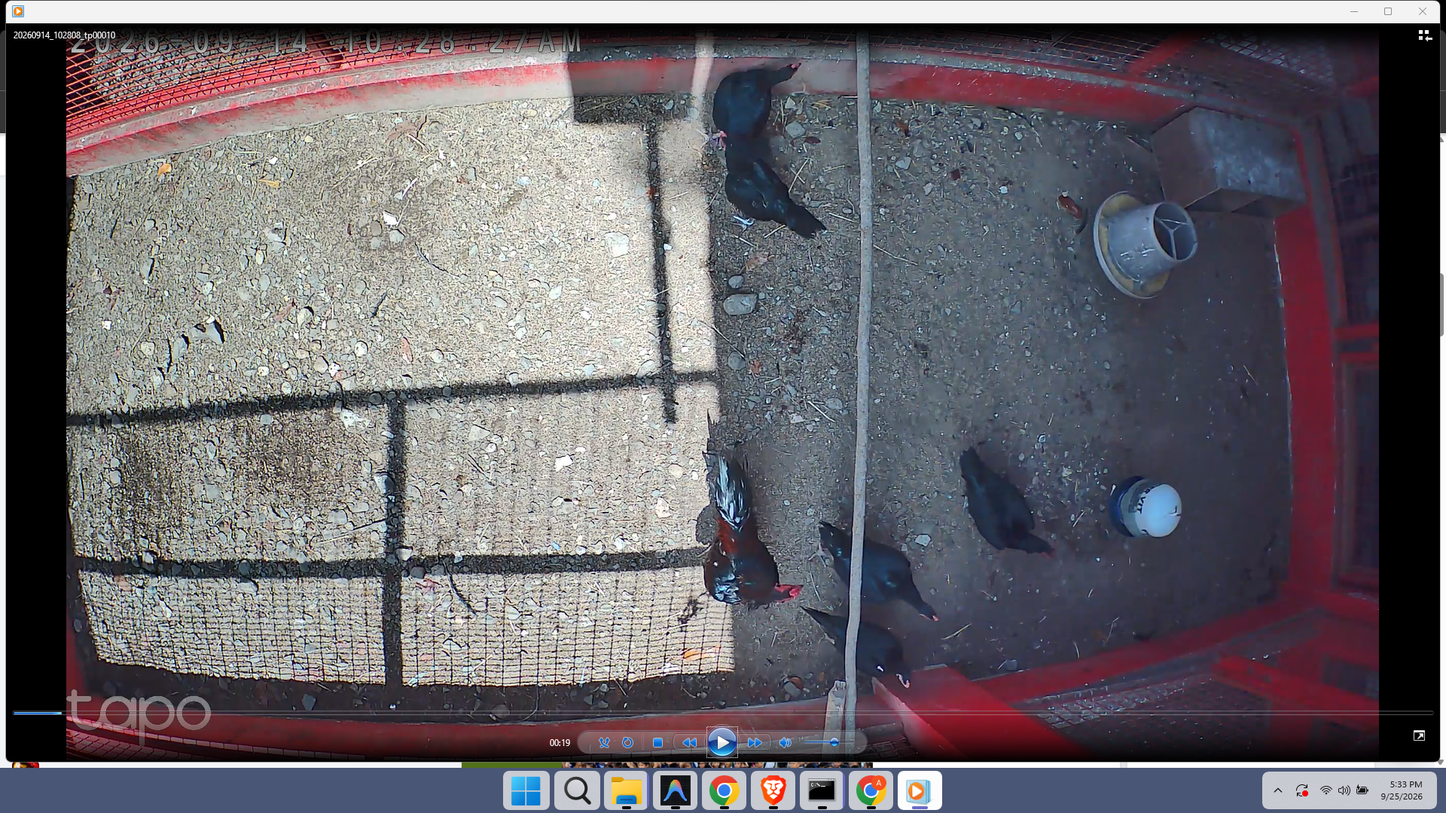Chicken: (803, 519, 945, 626), (713, 134, 829, 240), (956, 445, 1060, 563), (798, 602, 915, 689), (694, 59, 802, 148)
Drinker: (1110, 474, 1185, 540)
Feeder: (1091, 187, 1200, 299)
Rooster: (701, 449, 805, 607)
